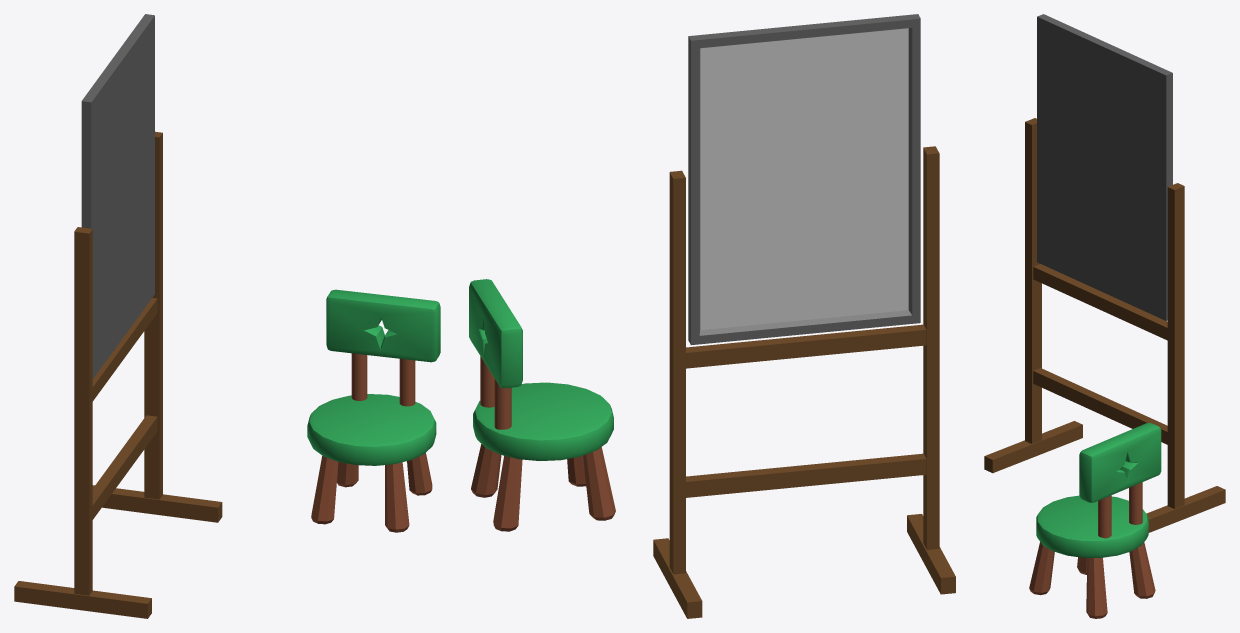
The model's file is Toy chair & stand.fbx.
The picture shows the model from 3 angles, left to right: view 1: azimuth 30°, elevation 25°; view 2: azimuth 150°, elevation 25°; view 3: azimuth 270°, elevation 25°; orthographic projection. The views are drawn at different scales.
Visible parts, largest first — view 1: White Board stand, Toy CHair; view 2: White Board stand, Toy CHair; view 3: White Board stand, Toy CHair.
Boxes of the visible parts, x1=… form: White Board stand: x1=14, y1=14, x2=222, y2=618; Toy CHair: x1=307, y1=289, x2=440, y2=532; White Board stand: x1=653, y1=14, x2=955, y2=618; Toy CHair: x1=469, y1=279, x2=615, y2=531; White Board stand: x1=984, y1=14, x2=1225, y2=532; Toy CHair: x1=1029, y1=423, x2=1161, y2=618.
Bounding box in the file's own units: 167 × 185 × 91.13.
